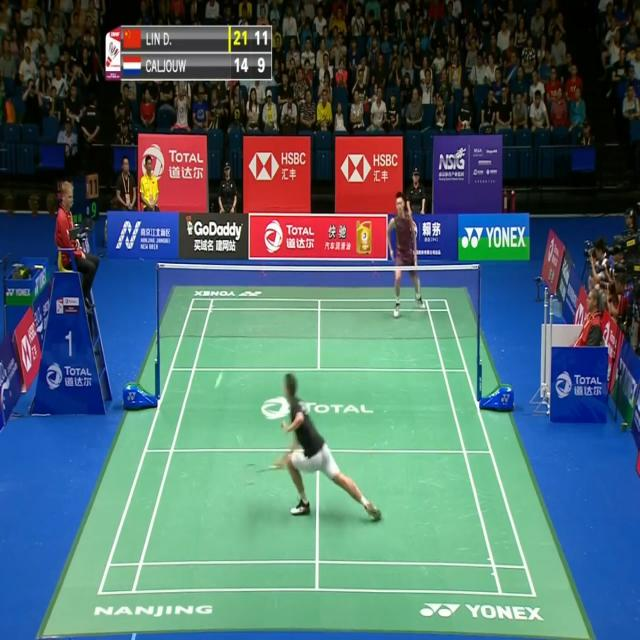Player1: (277, 364, 385, 530)
Player2: (384, 188, 426, 322)
